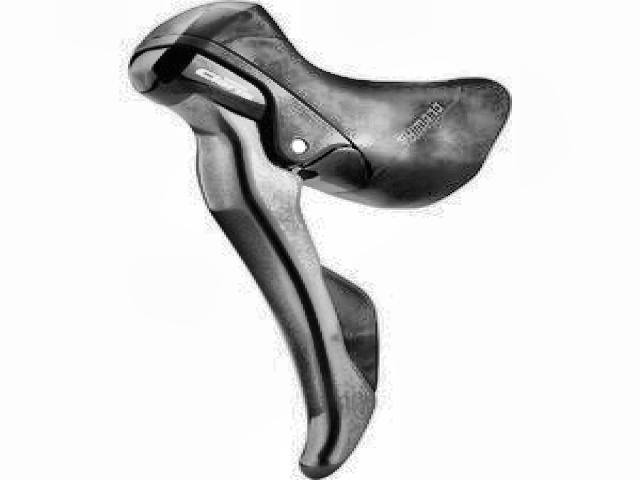sti_shifter: (125, 3, 487, 480)
